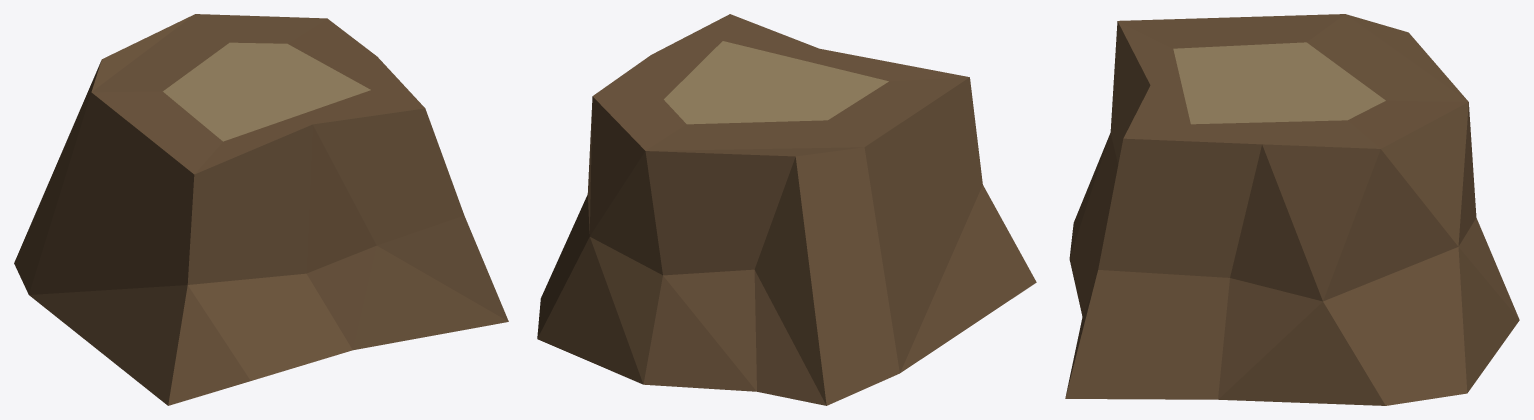
The model's file is thancay2.glb.
3 renders of one model, left to right at view 1: azimuth 30°, elevation 25°; view 2: azimuth 150°, elevation 25°; view 3: azimuth 270°, elevation 25°, orthographic. The views are drawn at different scales.
Parts seen in each view (by area): view 1: Cube; view 2: Cube; view 3: Cube.
Part boxes in pixels (x1,y1,x2,y2): Cube: [14, 14, 508, 405]; Cube: [537, 14, 1036, 405]; Cube: [1065, 14, 1519, 405].
Bounding box in the file's own units: 348 × 206 × 356.
